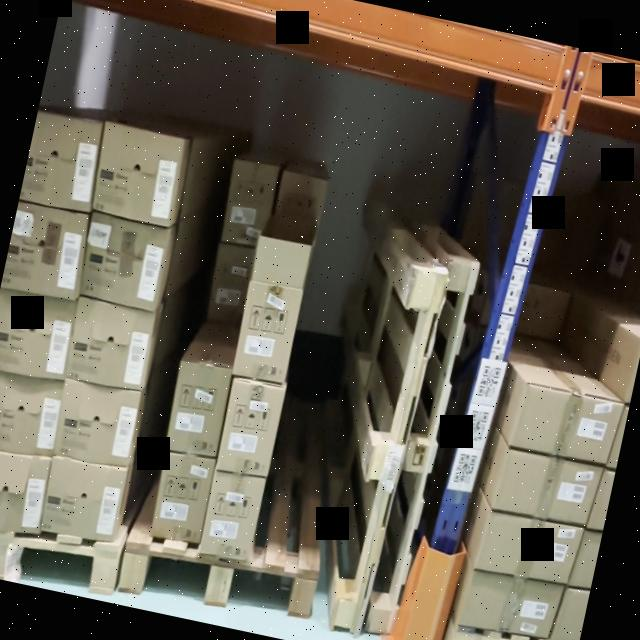box: (230, 236, 311, 384), (90, 123, 181, 227), (511, 384, 622, 464), (475, 509, 582, 587), (494, 452, 601, 527), (66, 302, 153, 389), (81, 217, 162, 308), (54, 381, 140, 466), (162, 358, 232, 462), (460, 570, 559, 640), (200, 466, 268, 562), (42, 458, 125, 536), (216, 381, 283, 476), (148, 452, 214, 544), (0, 373, 63, 452), (0, 453, 51, 533)
